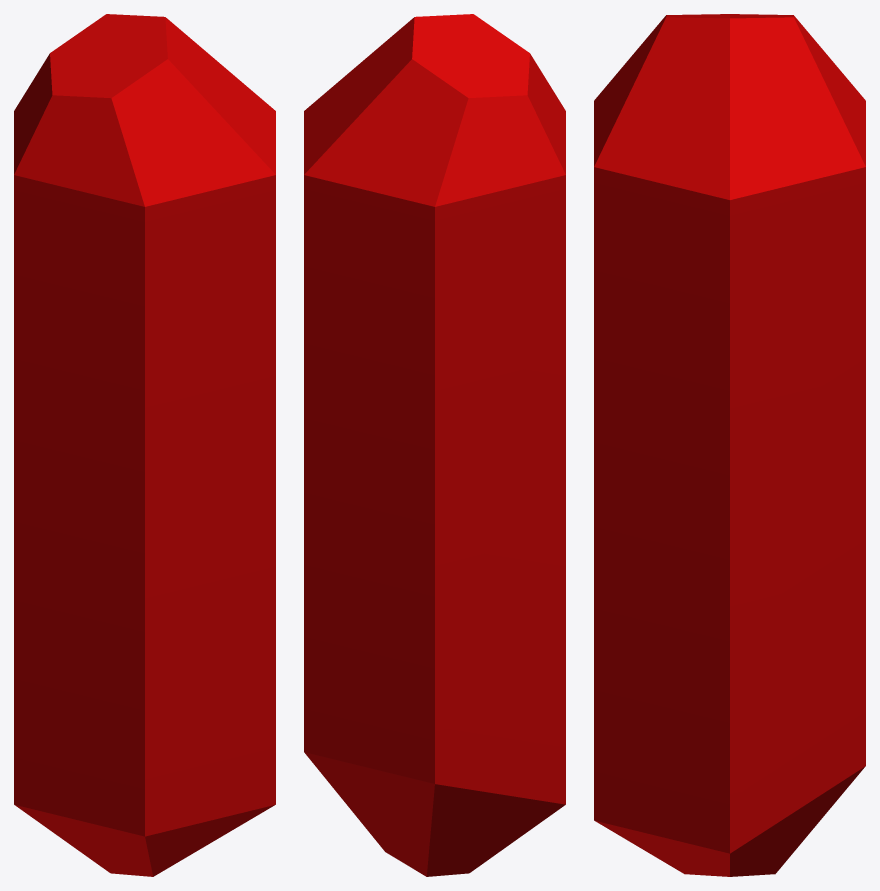
File: geology-crystals-coloredcrystal_v5.fbx
3 renders of one model, left to right at view 1: azimuth 30°, elevation 25°; view 2: azimuth 150°, elevation 25°; view 3: azimuth 270°, elevation 25°, orthographic. The views are drawn at different scales.
Parts seen in each view (by area): view 1: ColoredCrystal_v5; view 2: ColoredCrystal_v5; view 3: ColoredCrystal_v5.
Part boxes in pixels (x1,y1,x2,y2): ColoredCrystal_v5: (14,14,275,876); ColoredCrystal_v5: (304,14,565,876); ColoredCrystal_v5: (594,14,865,876).
Size of the model in its own units: 1.5 by 4.6 by 1.3.
